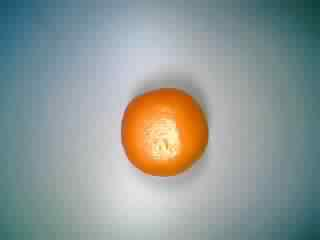orange: (117, 83, 213, 179)
